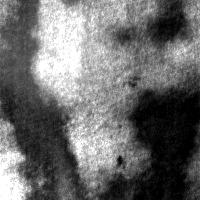patches: (1, 2, 80, 199), (0, 0, 117, 117), (104, 89, 200, 199), (148, 1, 186, 43)
